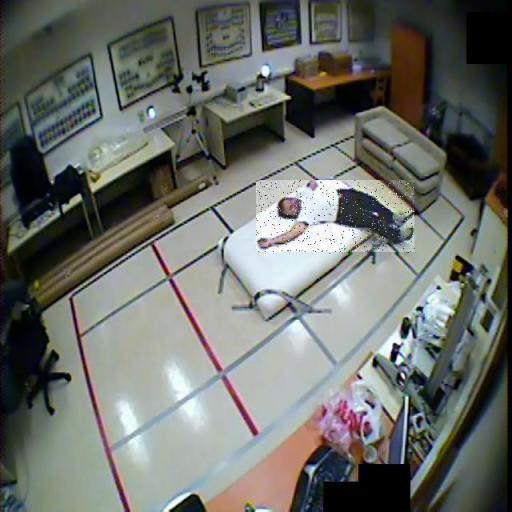Fall: (256, 181, 414, 254)
